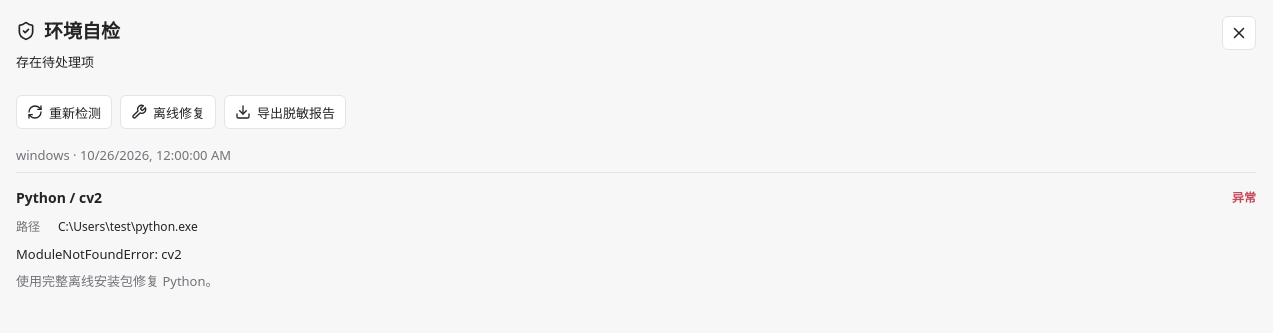
Diagnostics › handles a cancelled save without reporting success
Expected: the heading "Python / cv2" is shown, [16, 187, 102, 209]
Click the button "导出脱敏报告": (285, 112) [224, 95, 346, 129]
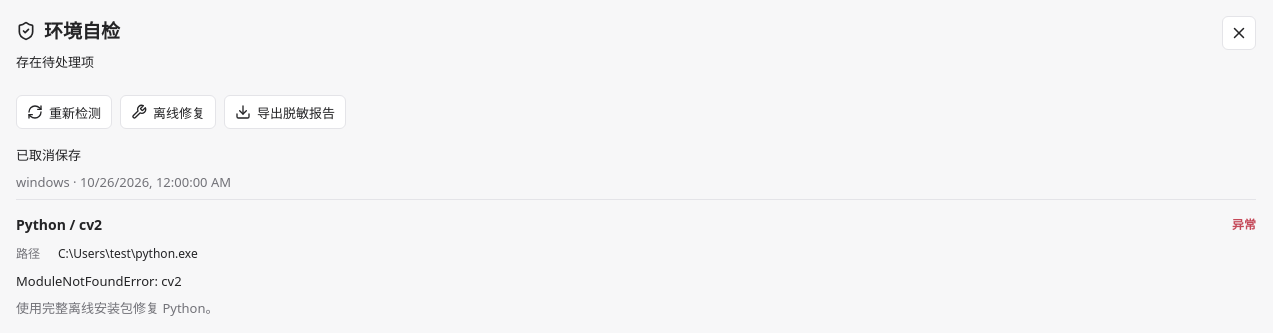
Expected: the button named "关闭诊断" is enabled, [1222, 16, 1256, 50]
Now the text "已取消保存" is shown, box [16, 146, 81, 164]
